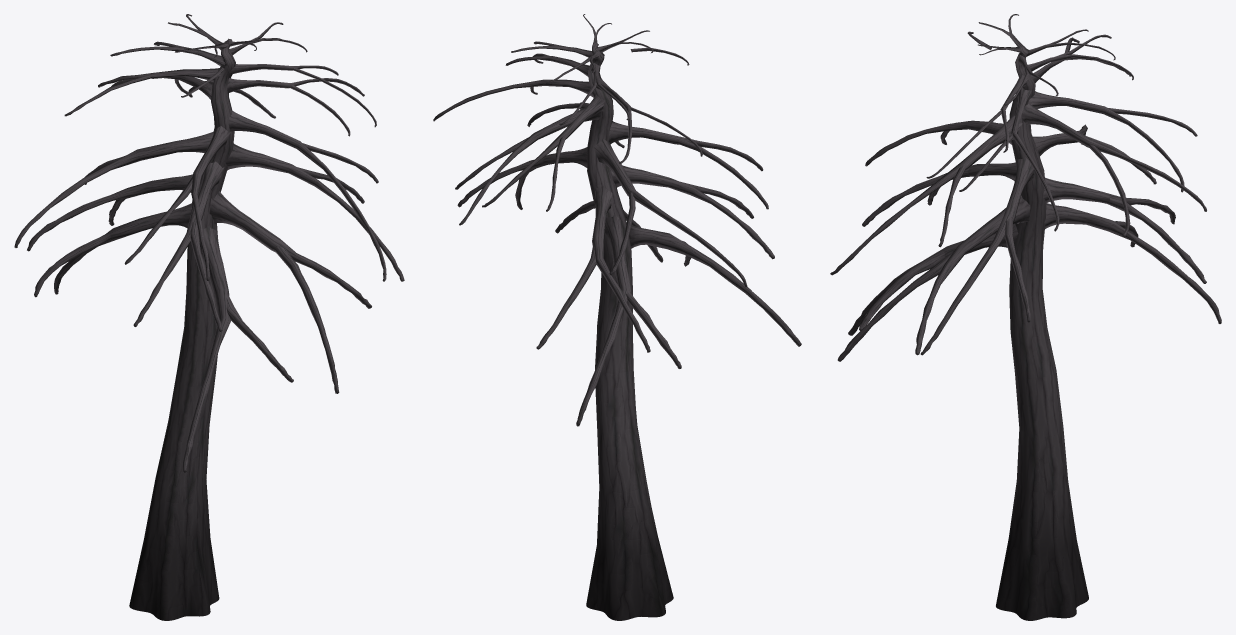
Rendered from tree_dead_4.glb.
3 renders of one model, left to right at view 1: azimuth 30°, elevation 25°; view 2: azimuth 150°, elevation 25°; view 3: azimuth 270°, elevation 25°, orthographic. The views are drawn at different scales.
Parts seen in each view (by area): view 1: DeadTree_4; view 2: DeadTree_4; view 3: DeadTree_4.
Part boxes in pixels (left/top/right/bottom): DeadTree_4: left=14, top=14, right=404, bottom=620; DeadTree_4: left=433, top=14, right=801, bottom=620; DeadTree_4: left=830, top=14, right=1221, bottom=620.
Size of the model in its own units: 7.96 by 12.77 by 7.73.
1 material, 1 textured.
